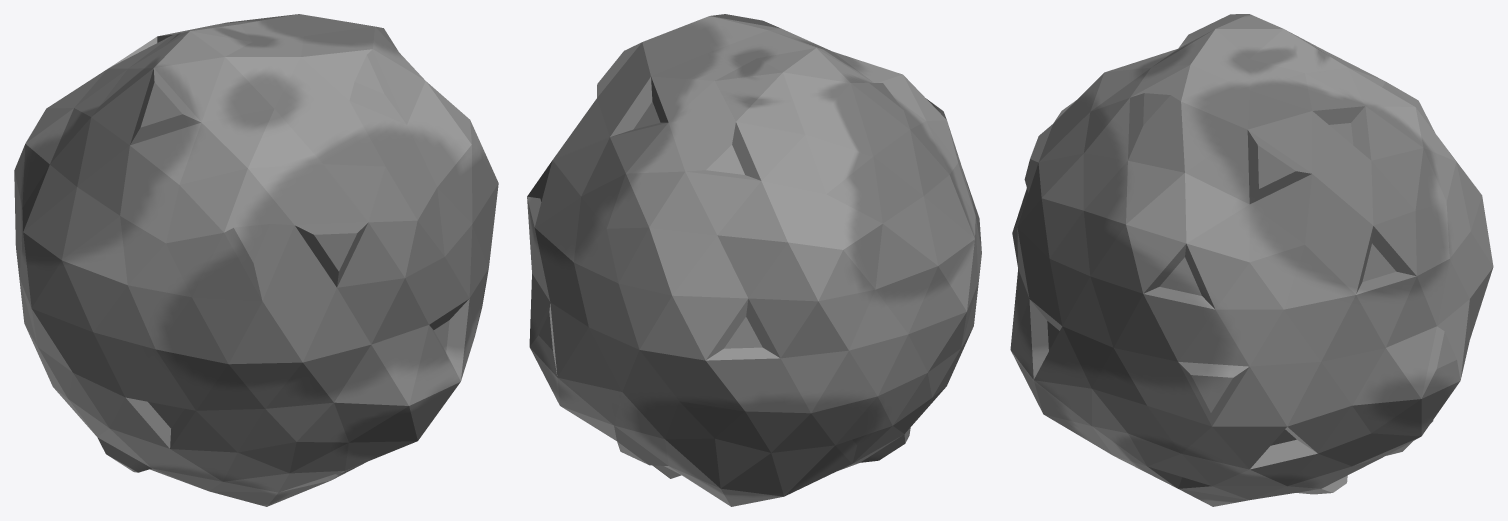
Rendered from PlanetA.fbx.
The picture shows the model from 3 angles, left to right: view 1: azimuth 30°, elevation 25°; view 2: azimuth 150°, elevation 25°; view 3: azimuth 270°, elevation 25°; orthographic projection. The views are drawn at different scales.
Visible parts, largest first — view 1: Icosphere; view 2: Icosphere; view 3: Icosphere.
Part boxes in pixels (left/top/right/bottom): Icosphere: left=14, top=14, right=498, bottom=506; Icosphere: left=527, top=14, right=981, bottom=506; Icosphere: left=1010, top=14, right=1493, bottom=506.
Bounding box in the file's own units: 21052 × 21127 × 20863.
